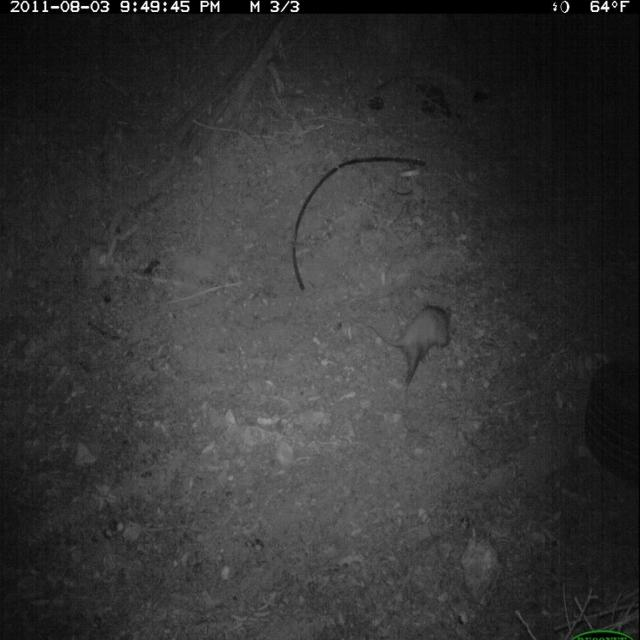opossum: (351, 300, 457, 403)
